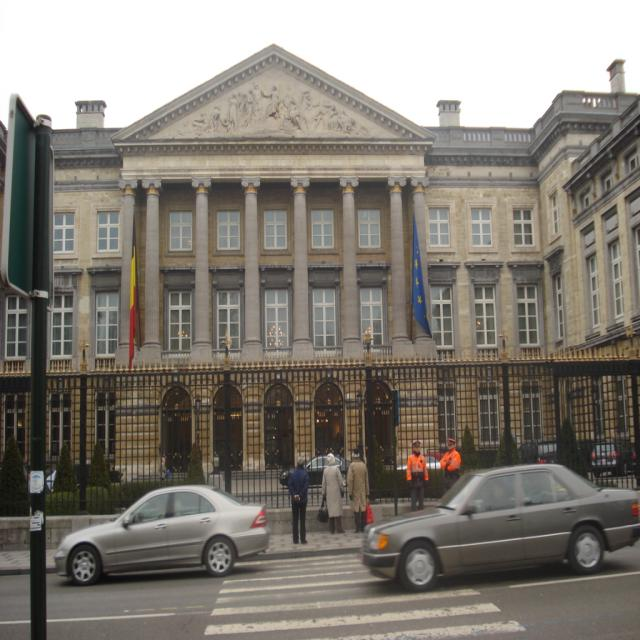car: (50, 482, 268, 584)
